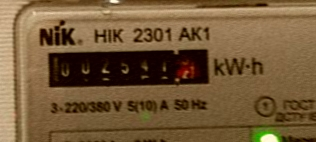0: (58, 57, 72, 78), (79, 55, 92, 76)
1: (158, 54, 170, 74)
2: (99, 55, 112, 75)
4: (139, 54, 152, 75)
5: (118, 54, 131, 76)
6: (181, 66, 192, 81)
screen: (38, 40, 221, 96)
